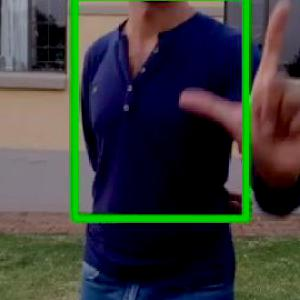land_hand: (170, 0, 299, 193)
